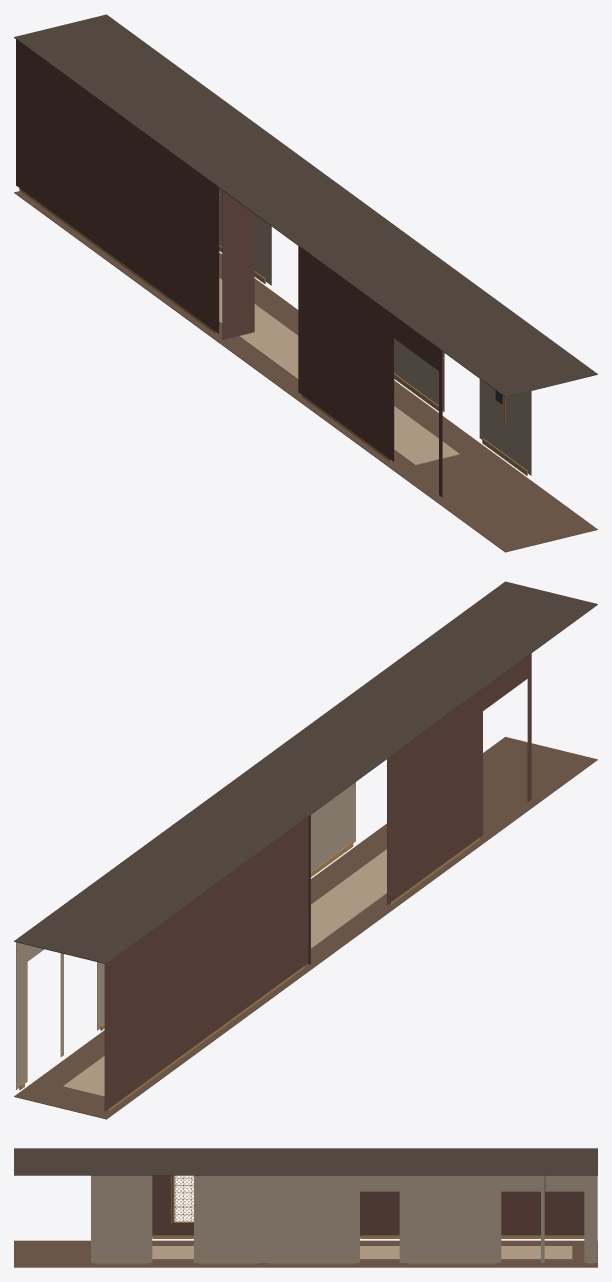
The model's file is corridor-2.glb.
The picture shows the model from 3 angles, top to bottom: view 1: azimuth 30°, elevation 25°; view 2: azimuth 150°, elevation 25°; view 3: azimuth 270°, elevation 25°; orthographic projection. The views are drawn at different scales.
Visible parts, largest first — view 1: DESIGN | Entrance coordinated ceiling, DESIGN | Entrance paired wall finish, DESIGN | Entrance floor finish, DESIGN | Entrance paired wall finish.003, DESIGN | Arch approach finish, DESIGN | Entrance quiet runner, DESIGN | Entrance paired wall finish.013, DESIGN | Entrance paired wall finish.012, DESIGN | Entrance paired wall finish.006, DESIGN | Entrance paired wall finish.002; view 2: DESIGN | Entrance coordinated ceiling, DESIGN | Entrance paired wall finish, DESIGN | Entrance floor finish, DESIGN | Entrance paired wall finish.003, DESIGN | Entrance quiet runner, DESIGN | Entrance paired wall finish.012, DESIGN | Entrance paired wall finish.005, DESIGN | Entrance paired wall finish.002, DESIGN | Entrance paired wall finish.001; view 3: DESIGN | Entrance coordinated ceiling, DESIGN | Entrance paired wall finish.006, DESIGN | Entrance paired wall finish.009, DESIGN | Entrance floor finish, DESIGN | Entrance paired wall finish.012, DESIGN | Entrance paired wall finish, DESIGN | Entrance paired wall finish.013, DESIGN | Entrance quiet runner, DESIGN | Entrance paired wall finish.003, DESIGN | Entrance paired wall finish.005, DESIGN | Evening atelier with a luminous recess diffuse back, DESIGN | Kumiko | Evening atelier with a luminous recess (+7 smaller).
Boxes of the visible parts, x1,y1,x2,y2 form: DESIGN | Entrance coordinated ceiling: (14, 14, 597, 397); DESIGN | Entrance paired wall finish: (16, 39, 219, 333); DESIGN | Entrance floor finish: (14, 191, 597, 552); DESIGN | Entrance paired wall finish.003: (298, 246, 394, 461); DESIGN | Arch approach finish: (222, 190, 254, 339); DESIGN | Entrance quiet runner: (219, 278, 459, 465); DESIGN | Entrance paired wall finish.013: (479, 379, 531, 475); DESIGN | Entrance paired wall finish.012: (394, 339, 444, 411); DESIGN | Entrance paired wall finish.006: (219, 188, 268, 283); DESIGN | Entrance paired wall finish.002: (394, 316, 438, 370); DESIGN | Entrance coordinated ceiling: (14, 581, 597, 964); DESIGN | Entrance paired wall finish: (104, 817, 308, 1111); DESIGN | Entrance floor finish: (14, 737, 597, 1119); DESIGN | Entrance paired wall finish.003: (387, 689, 482, 904); DESIGN | Entrance quiet runner: (62, 849, 386, 1096); DESIGN | Entrance paired wall finish.012: (311, 782, 355, 871); DESIGN | Entrance paired wall finish.005: (16, 942, 27, 1089); DESIGN | Entrance paired wall finish.002: (483, 656, 527, 710); DESIGN | Entrance paired wall finish.001: (527, 653, 531, 801); DESIGN | Entrance coordinated ceiling: (14, 1148, 597, 1175); DESIGN | Entrance paired wall finish.006: (402, 1175, 501, 1262); DESIGN | Entrance paired wall finish.009: (262, 1175, 359, 1262); DESIGN | Entrance floor finish: (14, 1240, 597, 1267); DESIGN | Entrance paired wall finish.012: (194, 1175, 262, 1262); DESIGN | Entrance paired wall finish: (360, 1176, 584, 1236); DESIGN | Entrance paired wall finish.013: (91, 1175, 152, 1262); DESIGN | Entrance quiet runner: (152, 1246, 572, 1259); DESIGN | Entrance paired wall finish.003: (152, 1175, 193, 1236); DESIGN | Entrance paired wall finish.005: (584, 1175, 597, 1262); DESIGN | Evening atelier with a luminous recess diffuse back: (174, 1175, 193, 1221); DESIGN | Kumiko | Evening atelier with a luminous recess: (173, 1175, 193, 1222).
Bounding box in the file's own units: 1.7 × 2.73 × 15.61.
